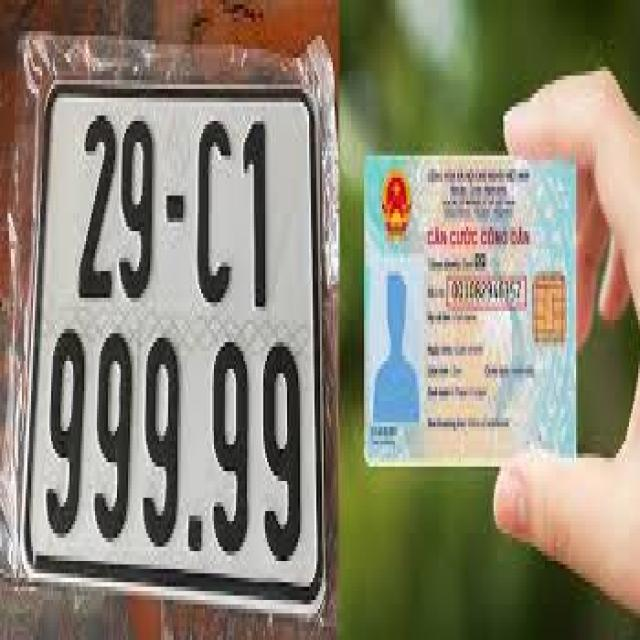a: (30, 55, 328, 618)
bien so: (26, 51, 322, 621)
